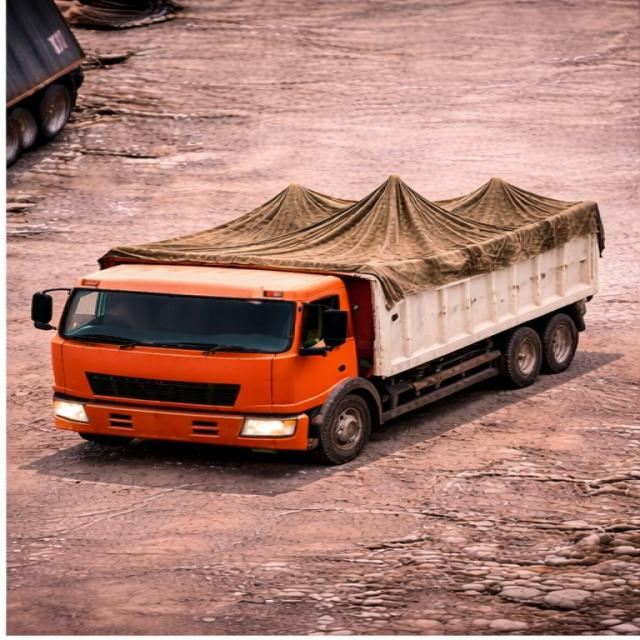Box: (100, 174, 594, 274)
Truck: (28, 163, 620, 464)
